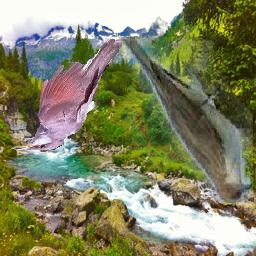Cuckoo: (119, 37, 253, 203), (12, 36, 122, 150)
